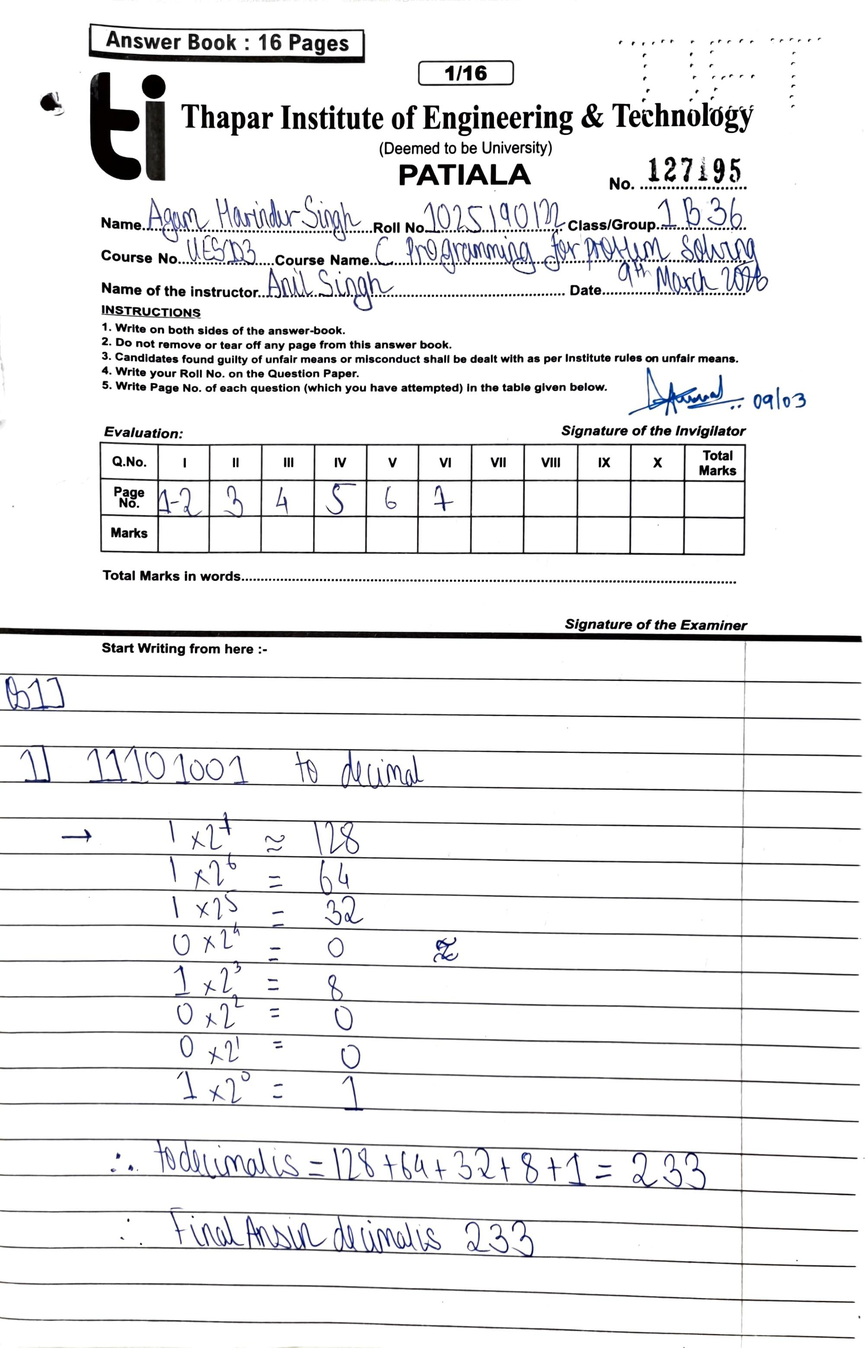cuttings: (432, 936, 459, 963)
